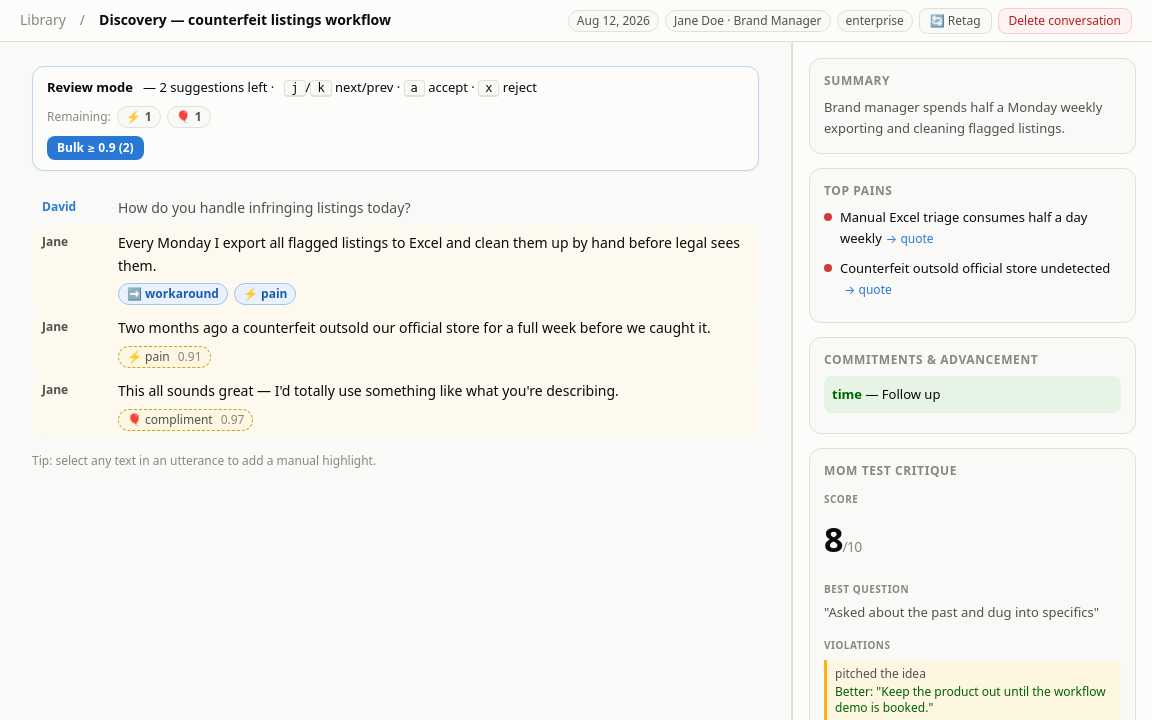
Test: Conversation page › clicking a chip opens popover with accept / reject / edit tag
The image size is (1152, 720).
Expected: the button "⚡ pain" is shown, [234,283,296,305]
Click the button "⚡ pain 0.91".
click(164, 357)  # box [118,346,210,368]
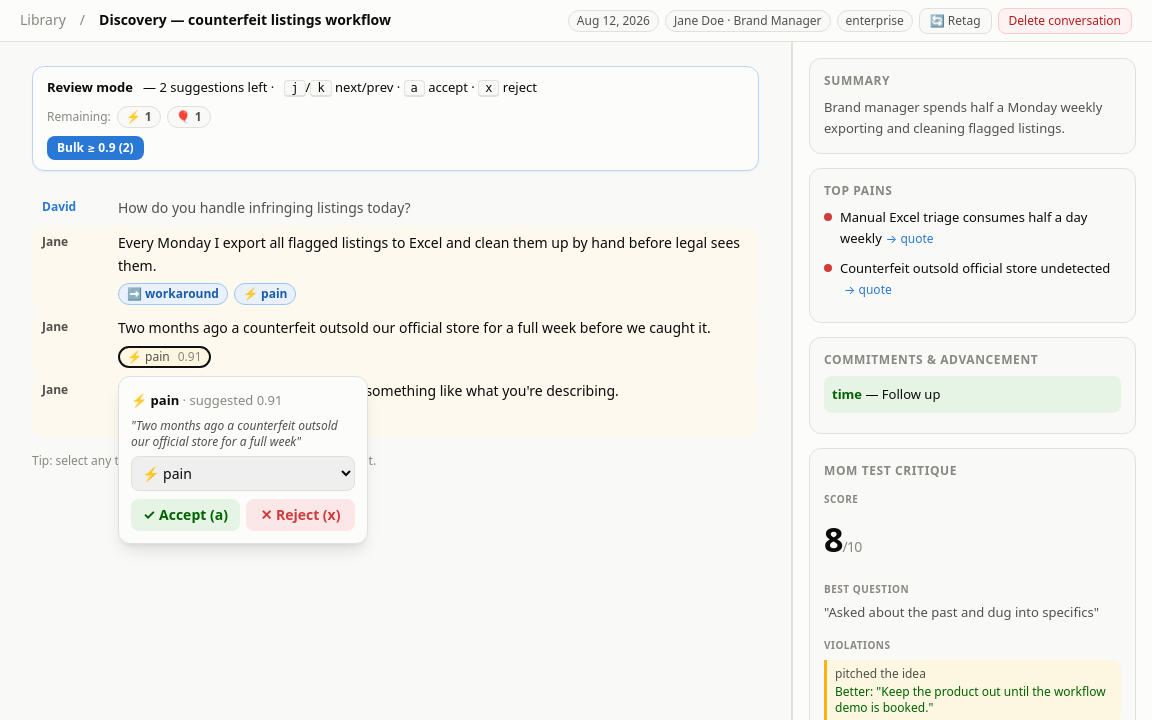
Expected: the button "✓ Accept (a)" is shown, [131,499,240,531]
Expected: the button "✕ Reject (x)" is shown, [246,499,355,531]
